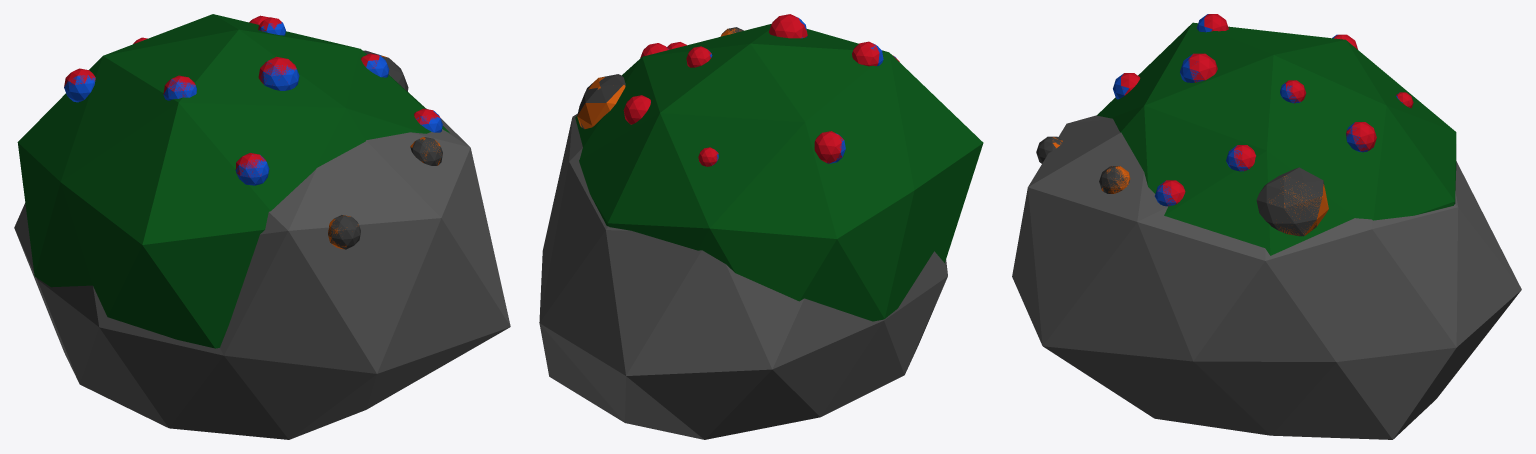
File: mc_models.fbx
The picture shows the model from 3 angles, left to right: view 1: azimuth 30°, elevation 25°; view 2: azimuth 150°, elevation 25°; view 3: azimuth 270°, elevation 25°; orthographic projection. The views are drawn at different scales.
Parts seen in each view (by area): view 1: IronOre, BlueBush, RedBush, Stone; view 2: RedBush, Stone, BlueBush, IronOre, CooperOre; view 3: IronOre, Stone, RedBush, BlueBush, CooperOre.
Boxes of the visible parts, <box> form: IronOre: <box>37,50,510,439</box>; BlueBush: <box>17,22,442,348</box>; RedBush: <box>18,14,449,316</box>; Stone: <box>14,140,510,439</box>; RedBush: <box>575,14,983,321</box>; Stone: <box>539,113,933,439</box>; BlueBush: <box>650,17,983,300</box>; IronOre: <box>577,27,947,419</box>; CooperOre: <box>570,28,740,160</box>; IronOre: <box>1012,115,1521,439</box>; Stone: <box>1083,161,1519,439</box>; RedBush: <box>1121,14,1456,255</box>; BlueBush: <box>1097,14,1402,255</box>; CooperOre: <box>1052,137,1371,259</box>.
Size of the model in its own units: 212 by 185 by 264.
Materials: 1 (1 with a texture image).
